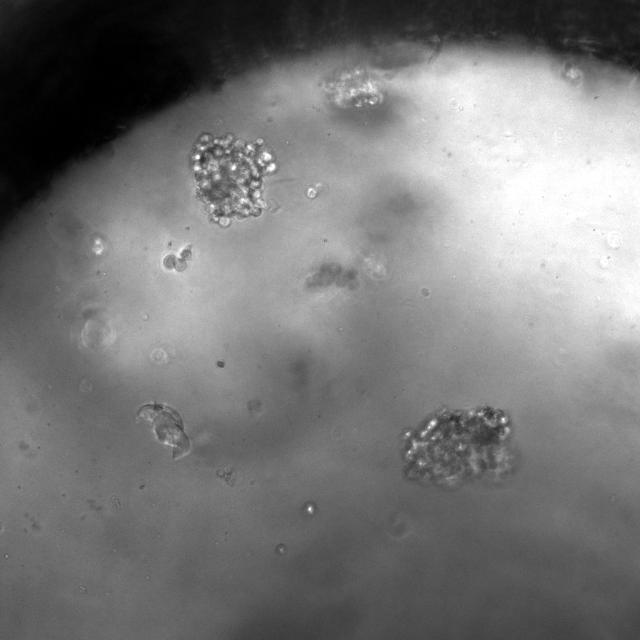organoid: (402, 405, 513, 487), (190, 133, 277, 225), (324, 68, 383, 108), (162, 246, 191, 271)
